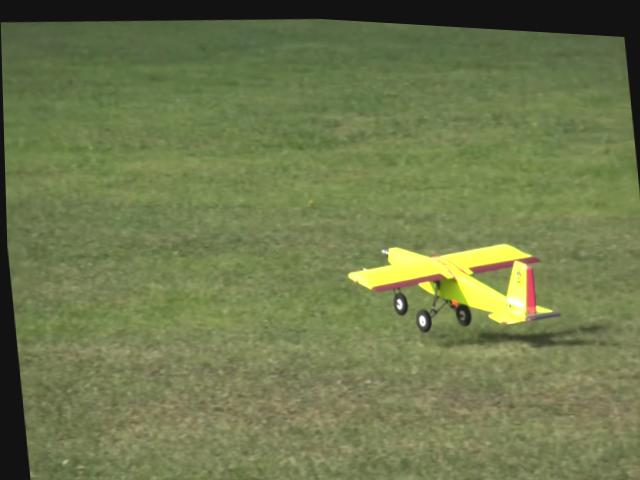plane: (341, 223, 564, 338)
